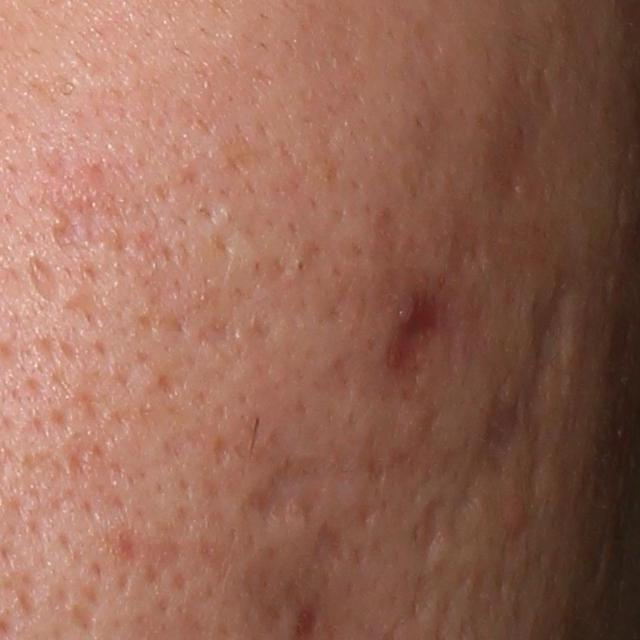atrophic_scar: (473, 265, 575, 508), (479, 93, 559, 205), (387, 293, 446, 370), (310, 524, 349, 587), (413, 500, 448, 568), (24, 253, 62, 304), (72, 602, 100, 633)
comedo: (289, 256, 308, 276)
